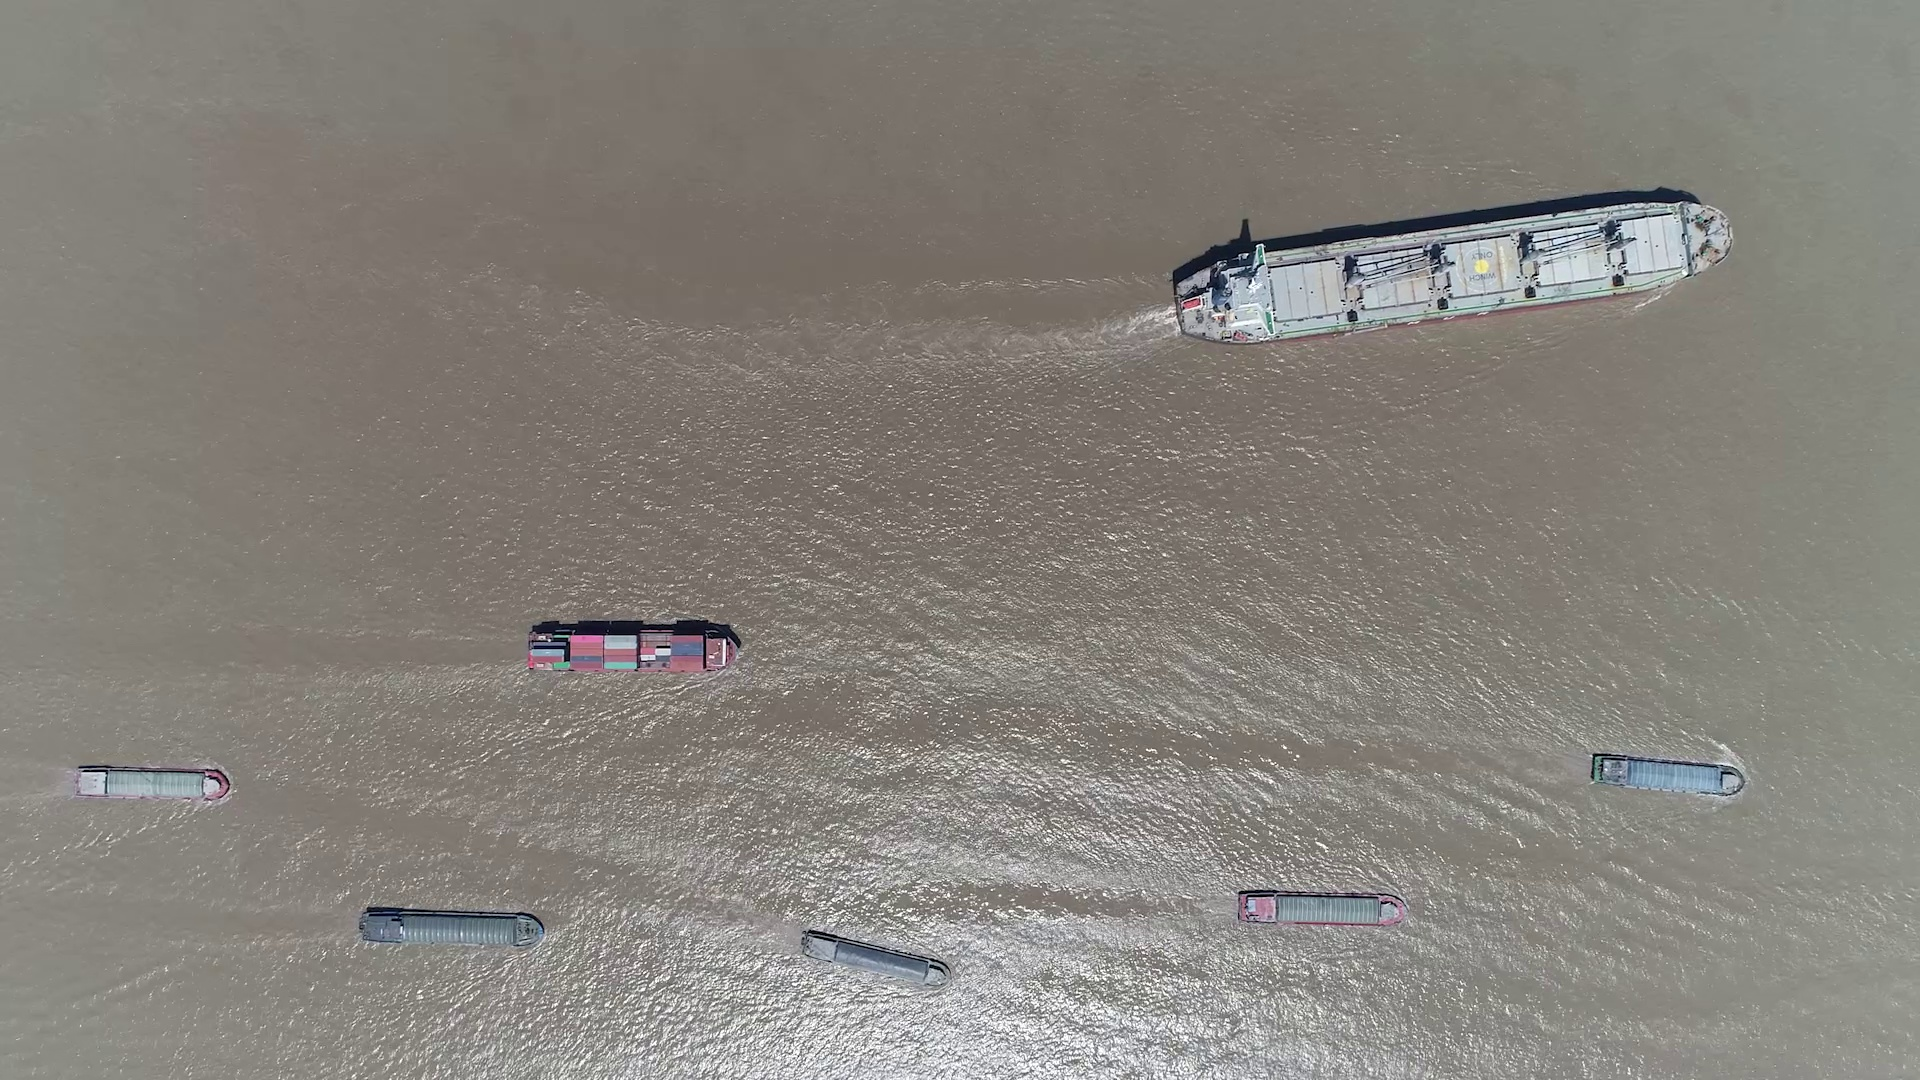ship: (1167, 200, 1734, 343), (526, 625, 740, 675), (800, 928, 947, 986), (361, 907, 543, 947), (1588, 753, 1745, 796), (1237, 890, 1407, 928), (73, 765, 228, 802)
